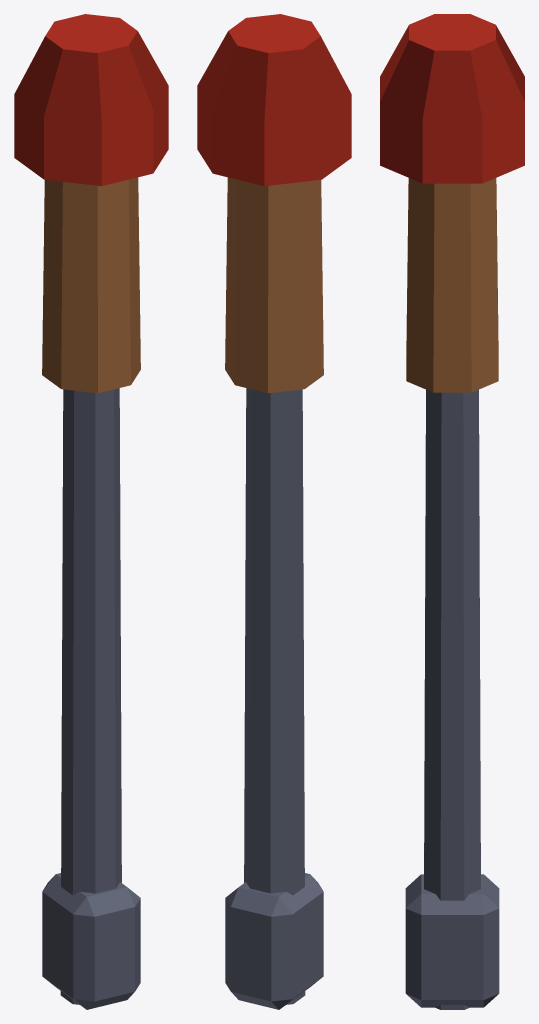
Rendered from leva_manico.glb.
3 views of the same model, side by side, from view 1: azimuth 30°, elevation 25°; view 2: azimuth 150°, elevation 25°; view 3: azimuth 270°, elevation 25° (orthographic).
Visible parts, largest first — view 1: leva_manico2; view 2: leva_manico2; view 3: leva_manico2.
Boxes of the visible parts, x1,y1,x2,y2 form: leva_manico2: [14, 14, 168, 1009]; leva_manico2: [197, 14, 351, 1009]; leva_manico2: [380, 14, 524, 1009].
Bounding box in the file's own units: 0.0924 × 0.68 × 0.0924.
